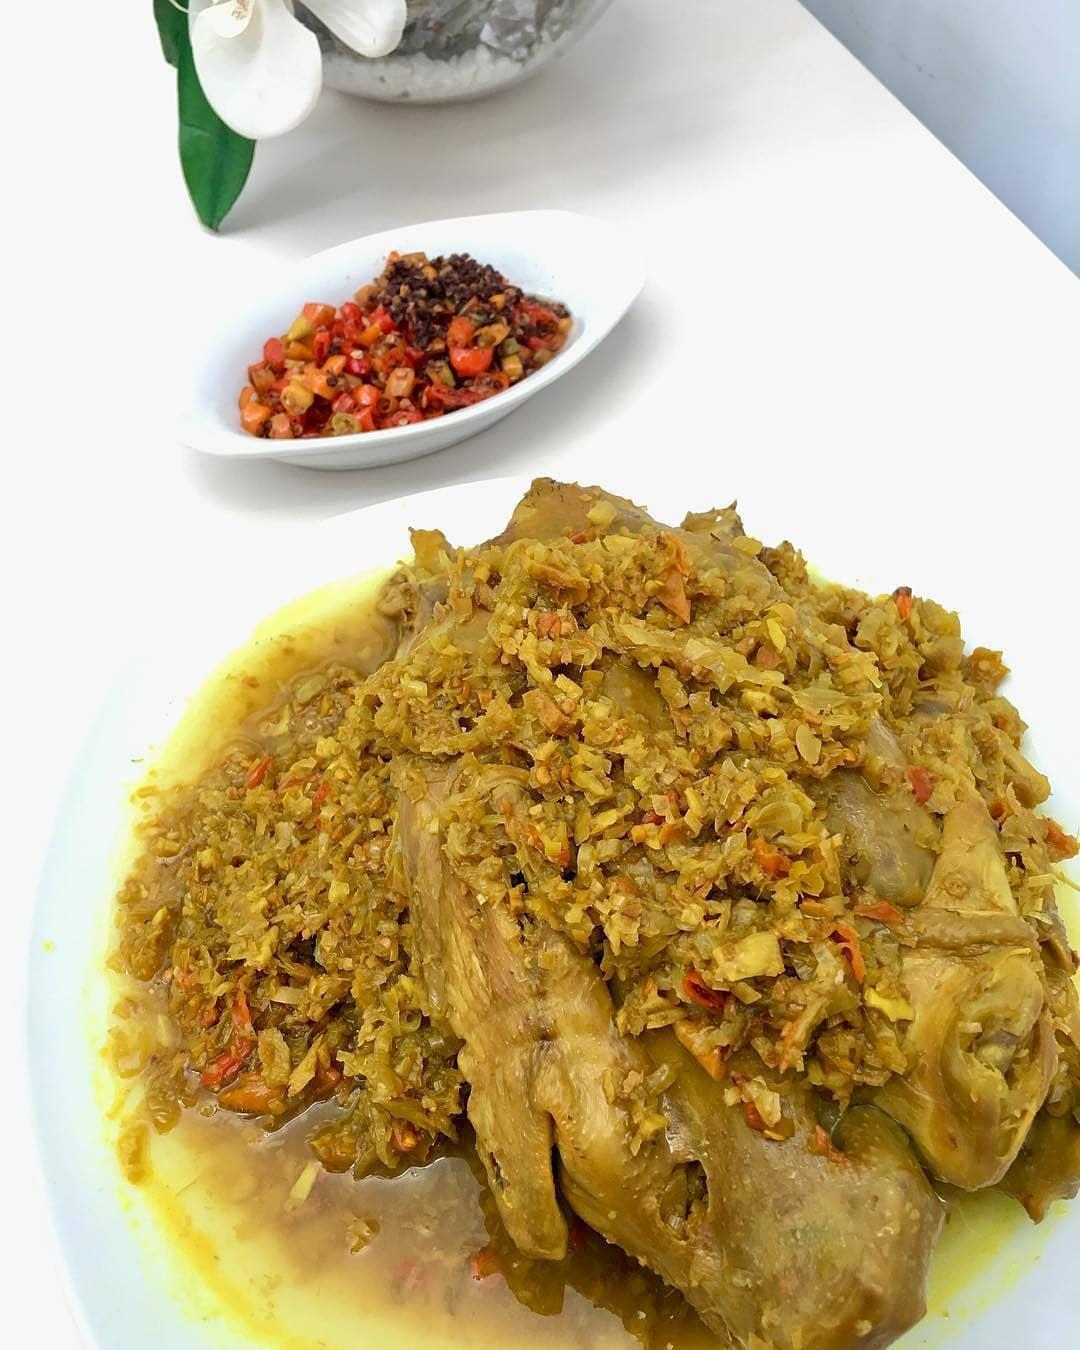ayam_betutu: (126, 485, 1080, 1350)
